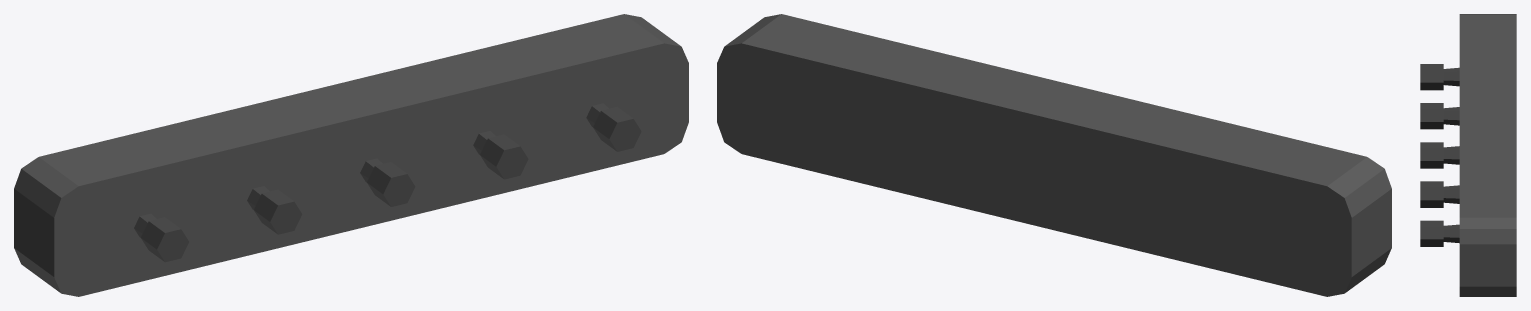
Rendered from Hanger_01.fbx.
The picture shows the model from 3 angles, left to right: view 1: azimuth 30°, elevation 25°; view 2: azimuth 150°, elevation 25°; view 3: azimuth 270°, elevation 25°; orthographic projection. The views are drawn at different scales.
Parts seen in each view (by area): view 1: Hanger_01; view 2: Hanger_01; view 3: Hanger_01.
Part boxes in pixels (<box>): Hanger_01: <box>14,14,688,296</box>; Hanger_01: <box>717,14,1391,296</box>; Hanger_01: <box>1420,14,1516,296</box>.
Bounding box in the file's own units: 30 × 5 × 5.57.
